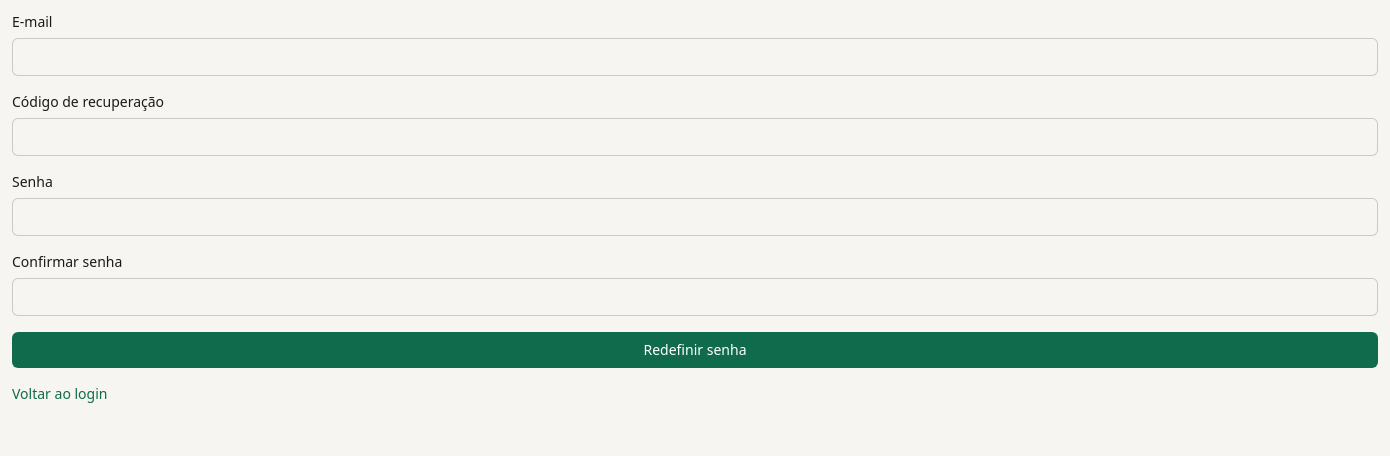
it: ResetPasswordForm (PW-09–11, PW-20, PW-22) › shows pending deletion message for 403 ACCOUNT_PENDING_DELETION (PW-21)
This screenshot has width=1390, height=456.
Type "User@Example.COM" into the field labelled "E-mail". click: (695, 57)
box: [12,38,1378,76]
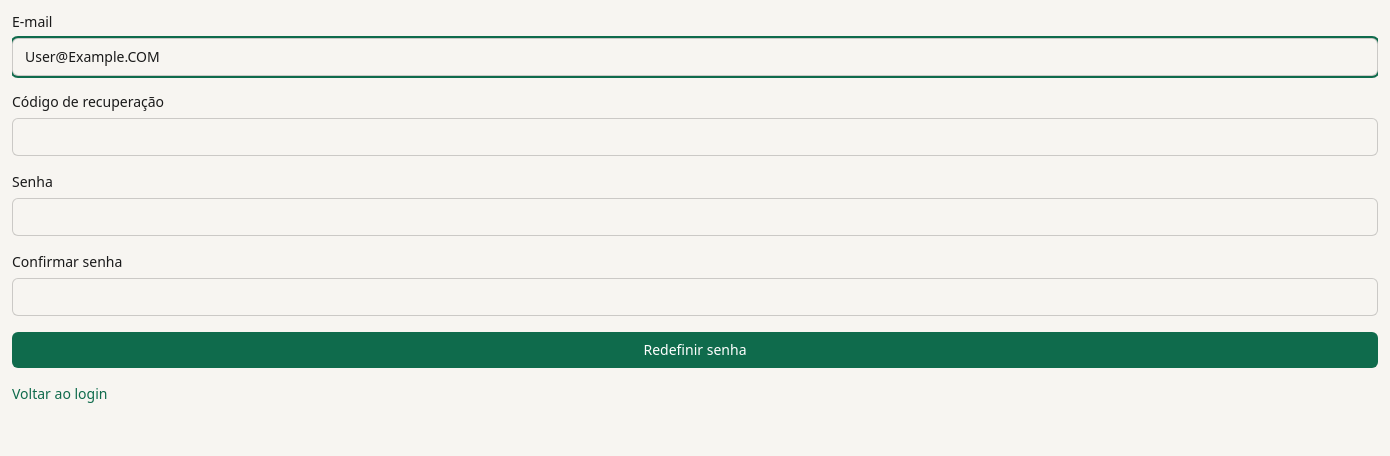
Type "opaque-token" into the field labelled "Código de recuperação". click: (695, 137)
box: [12,118,1378,156]
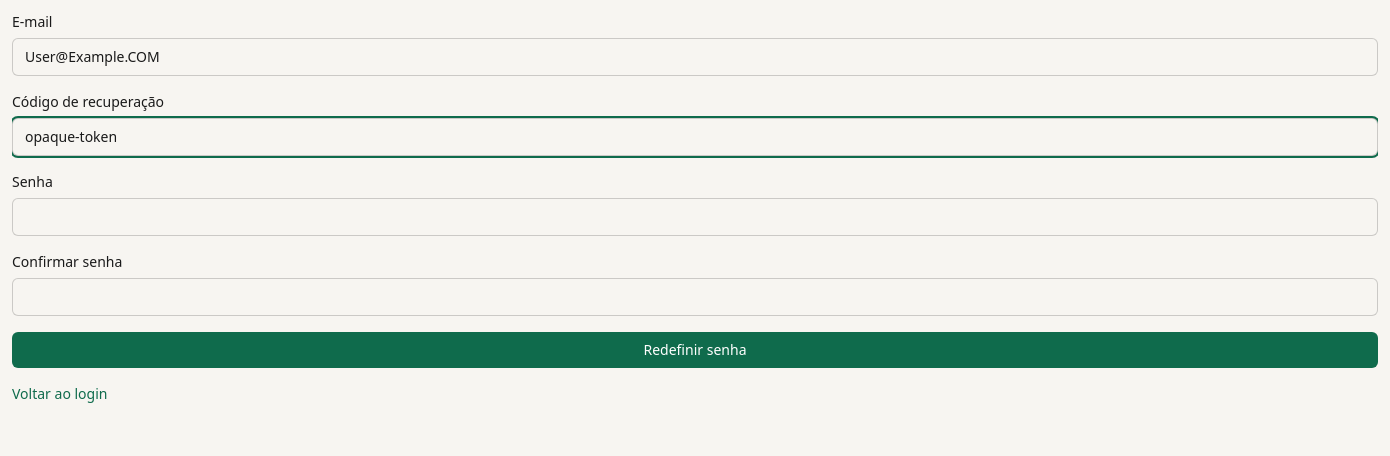
Type "Abcdefghij1!" into the password field labelled "Senha". click: (695, 217)
box: [12,198,1378,236]
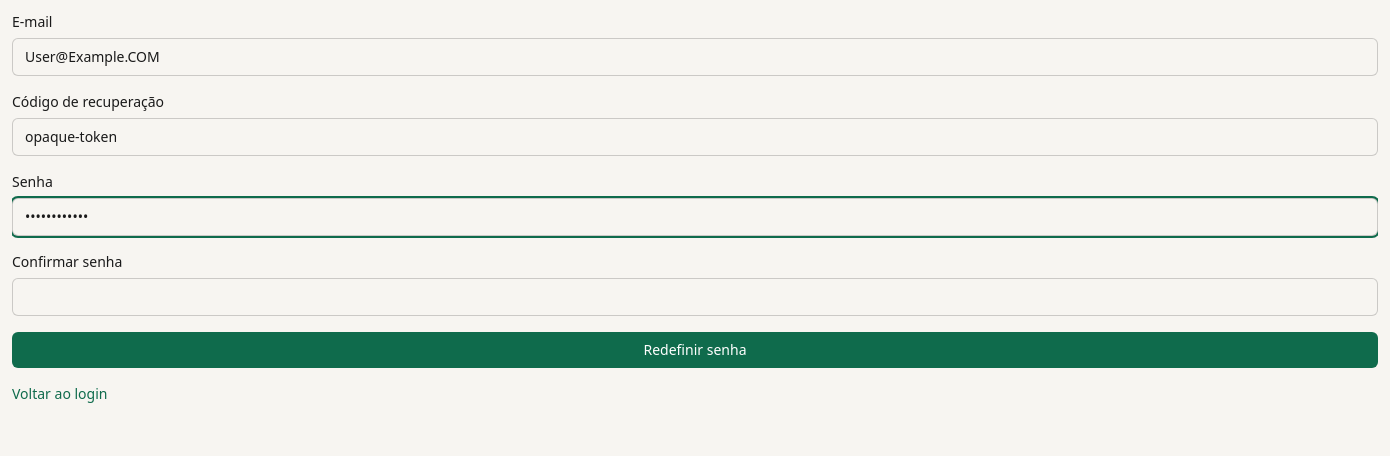
Type "Abcdefghij1!" into the password field labelled "Confirmar senha". click: (695, 297)
box: [12,278,1378,316]
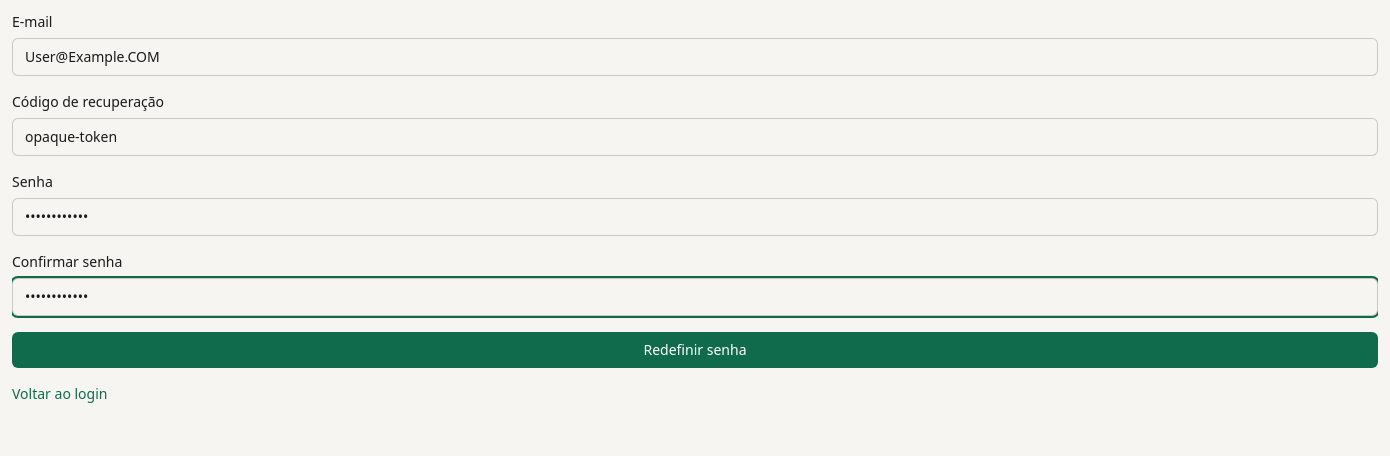
Click the button "Redefinir senha". click: (695, 350)
box: [12,332,1378,368]
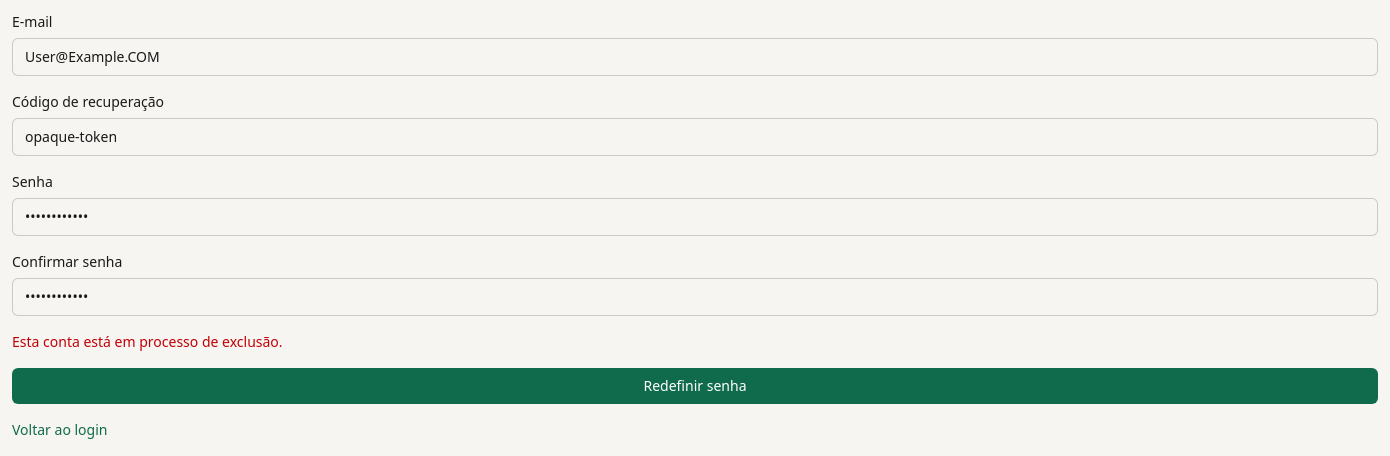
Expected: the message reads "Esta conta está em processo de exclusão.", [12,332,283,351]
